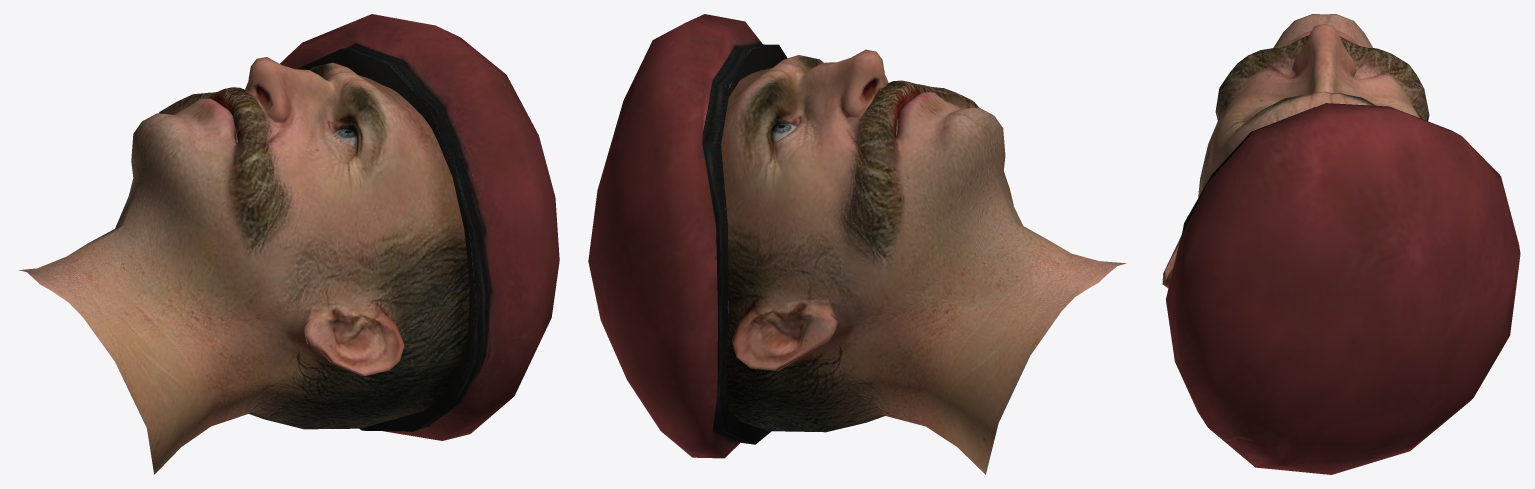
The model's file is head_british_price.glb.
The picture shows the model from 3 angles, left to right: view 1: azimuth 30°, elevation 25°; view 2: azimuth 150°, elevation 25°; view 3: azimuth 270°, elevation 25°; orthographic projection. The views are drawn at different scales.
Size of the model in its own units: 12.81 by 10.52 by 8.97.
Materials: 2 (2 with a texture image).
